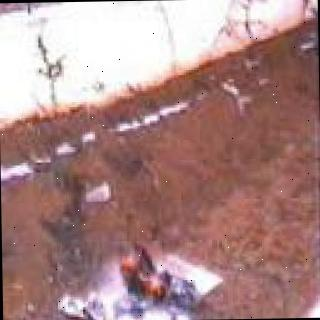fire: (119, 246, 174, 299)
